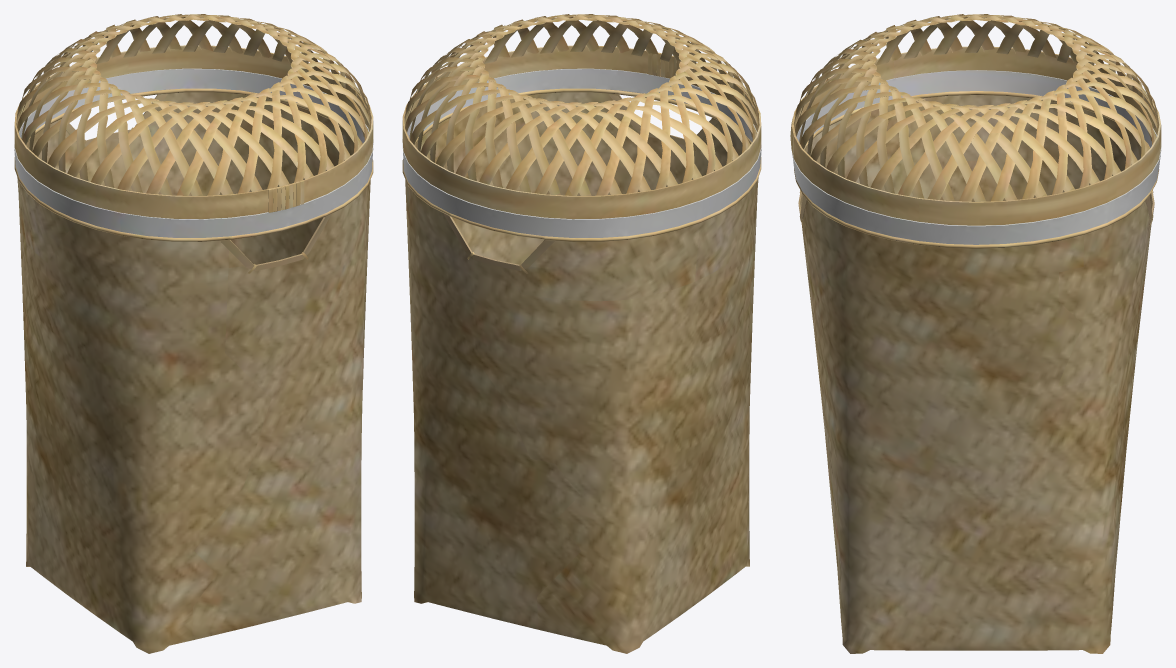
File: LB-BR-HAMPER-03.glb
The picture shows the model from 3 angles, left to right: view 1: azimuth 30°, elevation 25°; view 2: azimuth 150°, elevation 25°; view 3: azimuth 270°, elevation 25°; orthographic projection. The views are drawn at different scales.
Parts seen in each view (by area): view 1: Mesh_0; view 2: Mesh_0; view 3: Mesh_0.
Part boxes in pixels (<box>): Mesh_0: <box>14,14,373,653</box>; Mesh_0: <box>402,14,761,653</box>; Mesh_0: <box>790,14,1161,653</box>.
Size of the model in its own units: 0.4 by 0.6402 by 0.4.
Materials: 1 (1 with a texture image).
